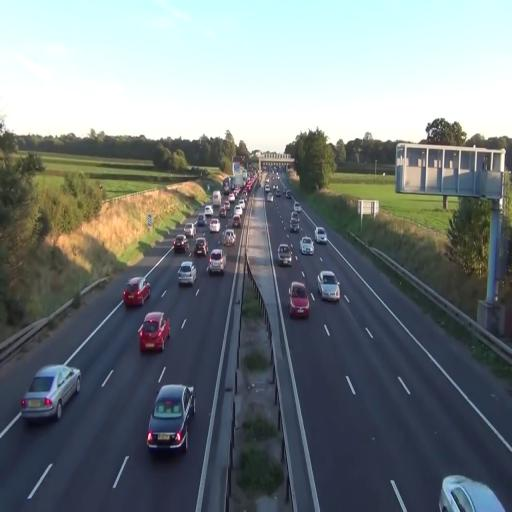vehicle: (20, 365, 81, 424), (147, 384, 195, 452), (439, 474, 507, 512), (138, 311, 170, 354), (122, 278, 151, 310), (288, 280, 310, 320), (318, 270, 340, 302), (207, 247, 226, 276), (177, 261, 196, 288), (276, 240, 294, 267), (172, 233, 187, 253), (222, 227, 236, 248), (300, 237, 314, 256), (195, 238, 208, 256), (233, 205, 243, 227), (316, 227, 328, 244)
